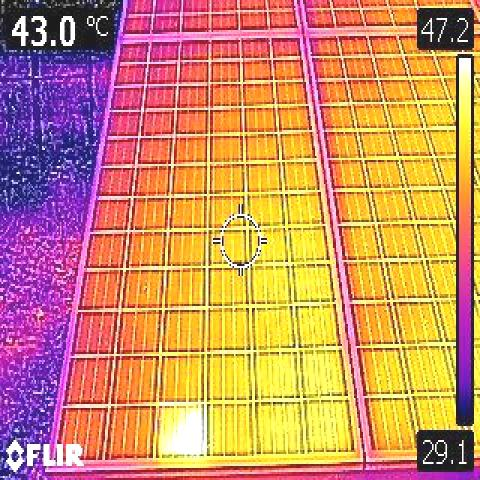fault: (158, 400, 206, 455)
